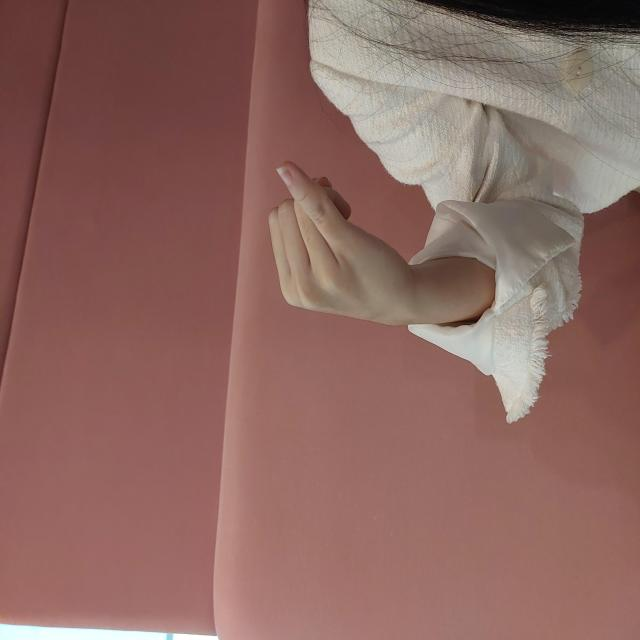J: (324, 268, 477, 408)
